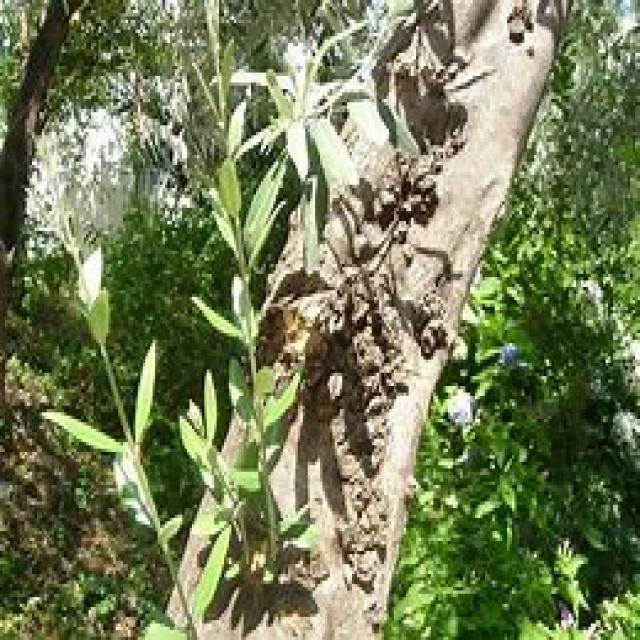Tuberculosis: (313, 251, 404, 594), (409, 277, 450, 356), (507, 0, 534, 46)
